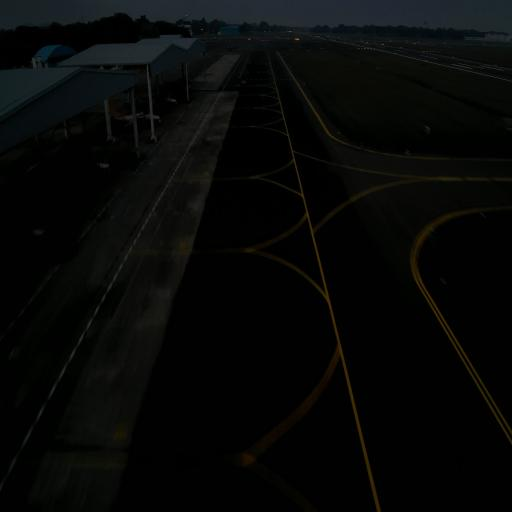on: (480, 210, 485, 219), (404, 148, 410, 155)
